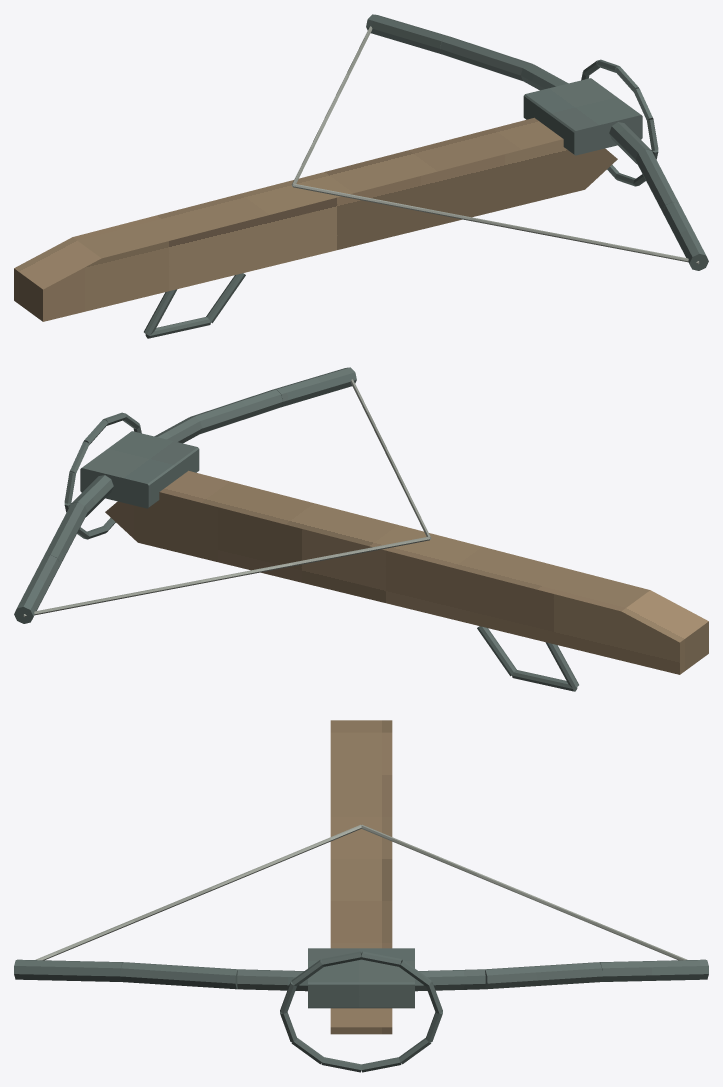
Rendered from weapon-crossbow.glb.
The picture shows the model from 3 angles, top to bottom: view 1: azimuth 30°, elevation 25°; view 2: azimuth 150°, elevation 25°; view 3: azimuth 270°, elevation 25°; orthographic projection. The views are drawn at different scales.
Parts seen in each view (by area): view 1: weapon-crossbow/sculpted-crossbow-tiller, weapon-crossbow/central-limb-saddle, weapon-crossbow/triangular-crossbow-string-1, weapon-crossbow/steel-crossbow-limbs-5, weapon-crossbow/steel-crossbow-limbs-6, weapon-crossbow/steel-crossbow-limbs-1, weapon-crossbow/steel-crossbow-limbs-2, weapon-crossbow/steel-crossbow-limbs-3, weapon-crossbow/steel-crossbow-limbs-4, weapon-crossbow/triangular-crossbow-string-2, weapon-crossbow/underside-release-shaped-prop-2, weapon-crossbow/underside-release-shaped-prop-3; view 2: weapon-crossbow/sculpted-crossbow-tiller, weapon-crossbow/central-limb-saddle, weapon-crossbow/triangular-crossbow-string-2, weapon-crossbow/steel-crossbow-limbs-2, weapon-crossbow/steel-crossbow-limbs-1, weapon-crossbow/steel-crossbow-limbs-6, weapon-crossbow/steel-crossbow-limbs-5, weapon-crossbow/steel-crossbow-limbs-4, weapon-crossbow/steel-crossbow-limbs-3, weapon-crossbow/triangular-crossbow-string-1, weapon-crossbow/underside-release-shaped-prop-2, weapon-crossbow/underside-release-shaped-prop-3; view 3: weapon-crossbow/sculpted-crossbow-tiller, weapon-crossbow/central-limb-saddle, weapon-crossbow/steel-crossbow-limbs-2, weapon-crossbow/steel-crossbow-limbs-5, weapon-crossbow/steel-crossbow-limbs-1, weapon-crossbow/steel-crossbow-limbs-6, weapon-crossbow/triangular-crossbow-string-1, weapon-crossbow/triangular-crossbow-string-2, weapon-crossbow/steel-crossbow-limbs-3, weapon-crossbow/steel-crossbow-limbs-4.
Boxes of the visible parts, x1,y1,x2,y2 form: weapon-crossbow/sculpted-crossbow-tiller: [14, 117, 617, 321]; weapon-crossbow/central-limb-saddle: [523, 78, 642, 155]; weapon-crossbow/triangular-crossbow-string-1: [293, 184, 699, 264]; weapon-crossbow/steel-crossbow-limbs-5: [440, 36, 532, 80]; weapon-crossbow/steel-crossbow-limbs-6: [366, 14, 450, 54]; weapon-crossbow/steel-crossbow-limbs-1: [662, 202, 708, 270]; weapon-crossbow/steel-crossbow-limbs-2: [635, 149, 678, 214]; weapon-crossbow/steel-crossbow-limbs-3: [609, 122, 651, 164]; weapon-crossbow/steel-crossbow-limbs-4: [520, 63, 568, 90]; weapon-crossbow/triangular-crossbow-string-2: [291, 26, 372, 186]; weapon-crossbow/underside-release-shaped-prop-2: [145, 317, 210, 338]; weapon-crossbow/underside-release-shaped-prop-3: [206, 273, 245, 323]; weapon-crossbow/sculpted-crossbow-tiller: [105, 470, 708, 674]; weapon-crossbow/central-limb-saddle: [80, 431, 199, 508]; weapon-crossbow/triangular-crossbow-string-2: [23, 537, 429, 617]; weapon-crossbow/steel-crossbow-limbs-2: [190, 389, 282, 433]; weapon-crossbow/steel-crossbow-limbs-1: [272, 367, 356, 407]; weapon-crossbow/steel-crossbow-limbs-6: [14, 555, 60, 623]; weapon-crossbow/steel-crossbow-limbs-5: [44, 502, 87, 567]; weapon-crossbow/steel-crossbow-limbs-4: [71, 475, 113, 517]; weapon-crossbow/steel-crossbow-limbs-3: [154, 416, 202, 443]; weapon-crossbow/triangular-crossbow-string-1: [350, 379, 431, 539]; weapon-crossbow/underside-release-shaped-prop-2: [512, 670, 577, 691]; weapon-crossbow/underside-release-shaped-prop-3: [477, 626, 516, 676]; weapon-crossbow/sculpted-crossbow-tiller: [330, 720, 392, 1034]; weapon-crossbow/central-limb-saddle: [308, 948, 414, 1008]; weapon-crossbow/steel-crossbow-limbs-2: [120, 962, 238, 989]; weapon-crossbow/steel-crossbow-limbs-5: [484, 962, 602, 989]; weapon-crossbow/steel-crossbow-limbs-1: [14, 959, 123, 981]; weapon-crossbow/steel-crossbow-limbs-6: [599, 959, 708, 981]; weapon-crossbow/triangular-crossbow-string-1: [35, 824, 361, 960]; weapon-crossbow/triangular-crossbow-string-2: [361, 824, 687, 960]; weapon-crossbow/steel-crossbow-limbs-3: [237, 969, 307, 991]; weapon-crossbow/steel-crossbow-limbs-4: [415, 969, 485, 991].
Size of the model in its own units: 0.882 by 0.2252 by 0.8468.
3 materials, 3 textured.
